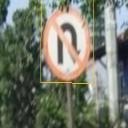NoVirarU: (44, 8, 90, 80)
